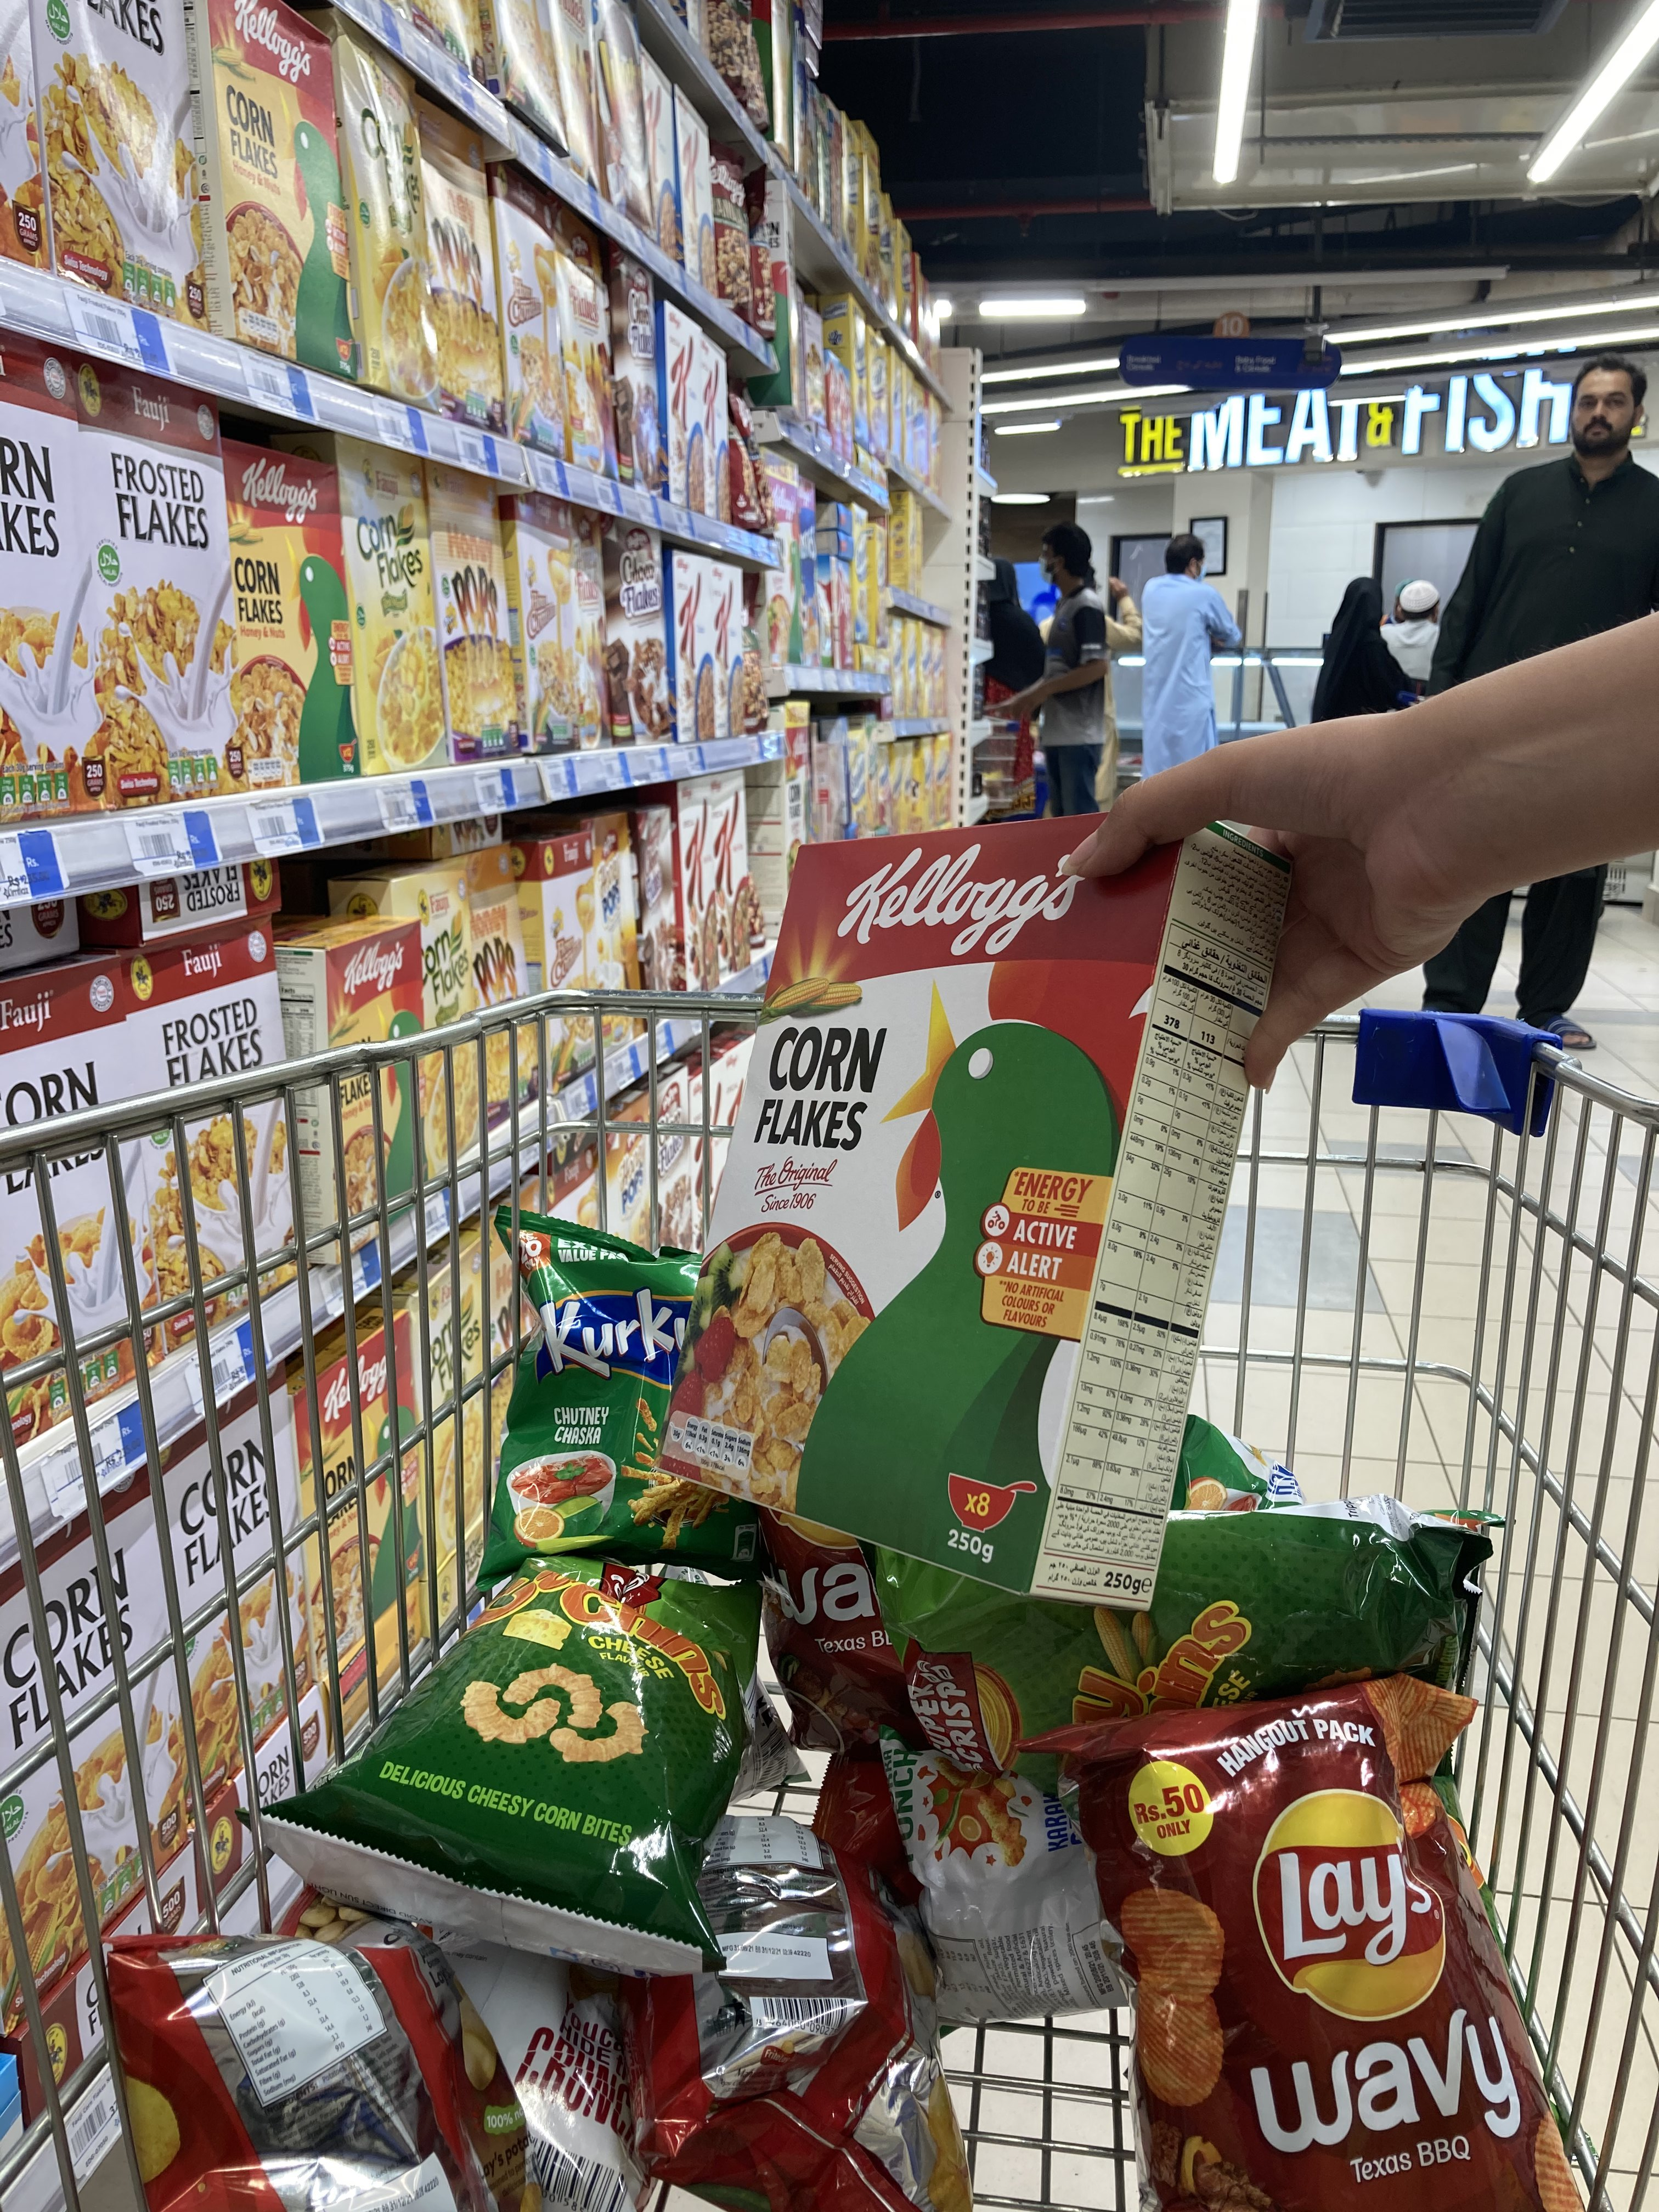Kellogg's Corn Flakes: (664, 815, 1281, 1609)
